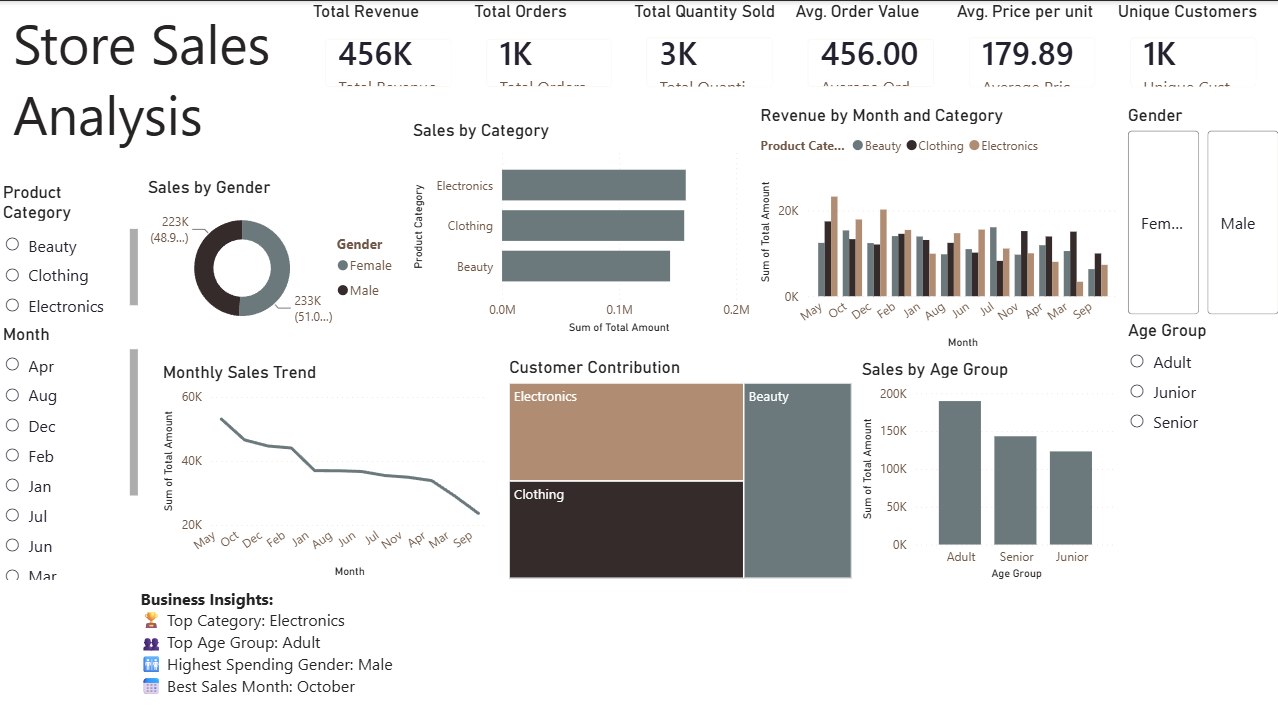

The page's visual inventory and layout, read from the dashboard file:
{"tool":"powerbi","page":{"name":"Page 1","canvas":[1280,720],"ordinal":0},"visuals":[{"type":"textbox","box":[9.6,0,299.1,177],"z":0},{"type":"cardVisual","title":"Total Revenue","fields":{"Data":["Store.Total Revenue"]},"box":[308.5,0,160.5,103.2],"z":1000},{"type":"cardVisual","title":"Total Orders","fields":{"Data":["Store.Total Orders"]},"box":[469,0,159.2,103.2],"z":2000},{"type":"cardVisual","title":"Total Quantity Sold","fields":{"Data":["Store.Total Quantity Sold"]},"box":[628.2,0,160.5,103.2],"z":3000},{"type":"cardVisual","title":"Avg. Order Value","fields":{"Data":["Store.Average Order Value"]},"box":[788.7,0,160.5,103.2],"z":4000},{"type":"cardVisual","title":"Avg. Price per unit","fields":{"Data":["Store.Average Price Per Unit"]},"box":[949.1,0,160.5,103.2],"z":5000},{"type":"cardVisual","title":"Unique Customers","fields":{"Data":["Store.Unique Customers"]},"box":[1109.6,0,160.5,103.2],"z":6000},{"type":"lineChart","title":"Monthly Sales Trend","fields":{"Category":["Store.Month"],"Y":["Sum(Store.Total Amount)"]},"box":[159.2,359.5,333.4,218.9],"z":7000},{"type":"barChart","title":"Sales by Category","fields":{"Category":["Store.Product Category"],"Y":["Sum(Store.Total Amount)"]},"box":[408,118.2,345.8,217.7],"z":8000},{"type":"clusteredColumnChart","title":"Sales by Age Group","fields":{"Category":["Store.Age Group"],"Y":["Sum(Store.Total Amount)"]},"box":[854.6,355.8,263.7,225.2],"z":9000},{"type":"donutChart","title":"Sales by Gender","fields":{"Category":["Store.Gender"],"Y":["Sum(Store.Total Amount)"]},"box":[144.3,175.4,263.7,160.5],"z":10000},{"type":"treemap","title":"Customer Contribution","fields":{"Group":["Store.Product Category"],"Values":["Sum(Store.Total Amount)"]},"box":[503.8,354.5,350.8,225.2],"z":11000},{"type":"clusteredColumnChart","title":"Revenue by Month and Category","fields":{"Category":["Store.Month"],"Y":["Sum(Store.Total Amount)"],"Series":["Store.Product Category"]},"box":[753.8,103.2,365.7,247.5],"z":12000},{"type":"listSlicer","fields":{"Values":["Store.Month"]},"box":[0,320.9,144.3,260],"z":13000},{"type":"listSlicer","fields":{"Values":["Store.Product Category"]},"box":[0,180.4,144.3,140.6],"z":14000},{"type":"advancedSlicerVisual","fields":{"Values":["Store.Gender"]},"box":[1119.6,103.2,160.5,214],"z":15000},{"type":"listSlicer","fields":{"Values":["Store.Age Group"]},"box":[1119.6,317.2,160.5,125.6],"z":16000},{"type":"textbox","box":[136.8,578.4,271.2,141.8],"z":17000}]}

Visuals, with their boxes in screenshot pixels (x1, y1, x2, y2), scaled from the page's 1280x720 canvas onto the 1278x717 screenshot:
textbox: [x1=10, y1=0, x2=308, y2=176]
"Total Revenue" cardVisual: [x1=308, y1=0, x2=468, y2=103]
"Total Orders" cardVisual: [x1=468, y1=0, x2=627, y2=103]
"Total Quantity Sold" cardVisual: [x1=627, y1=0, x2=787, y2=103]
"Avg. Order Value" cardVisual: [x1=787, y1=0, x2=948, y2=103]
"Avg. Price per unit" cardVisual: [x1=948, y1=0, x2=1108, y2=103]
"Unique Customers" cardVisual: [x1=1108, y1=0, x2=1268, y2=103]
"Monthly Sales Trend" lineChart: [x1=159, y1=358, x2=492, y2=576]
"Sales by Category" barChart: [x1=407, y1=118, x2=753, y2=335]
"Sales by Age Group" clusteredColumnChart: [x1=853, y1=354, x2=1117, y2=579]
"Sales by Gender" donutChart: [x1=144, y1=175, x2=407, y2=335]
"Customer Contribution" treemap: [x1=503, y1=353, x2=853, y2=577]
"Revenue by Month and Category" clusteredColumnChart: [x1=753, y1=103, x2=1118, y2=349]
listSlicer - Store.Month: [x1=0, y1=320, x2=144, y2=578]
listSlicer - Store.Product Category: [x1=0, y1=180, x2=144, y2=320]
advancedSlicerVisual - Store.Gender: [x1=1118, y1=103, x2=1277, y2=316]
listSlicer - Store.Age Group: [x1=1118, y1=316, x2=1277, y2=441]
textbox: [x1=137, y1=576, x2=407, y2=716]
